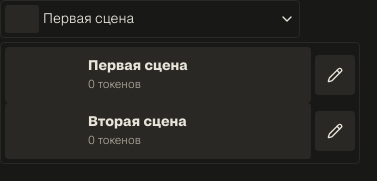
Test case: edits the exact scene without selecting it or nesting buttons
Click the menu item named "Редактировать сцену «Вторая сцена»" at (335, 131), box [315,111,355,151]
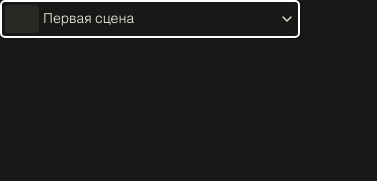
expect the menu item is gone: met
